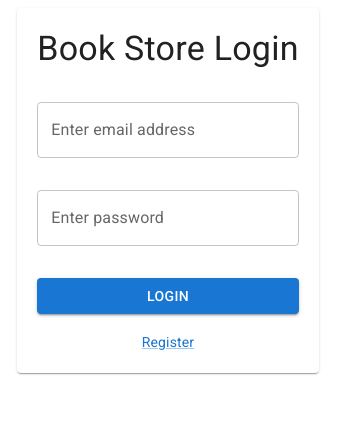
Test case: Login test › should show email and password invalid error message
Type "wrong" into the password field labelled "Enter password" at (168, 218), box [37,190,299,246]
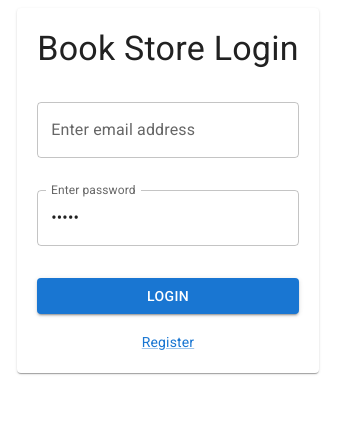
Type "wrong" into the field labelled "Enter email address" at (168, 130), box [37,102,299,158]
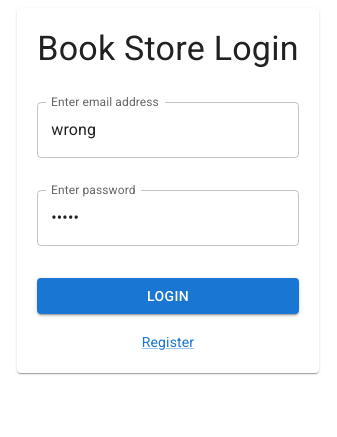
Submit the form from the button "Login", box [37,278,299,314]
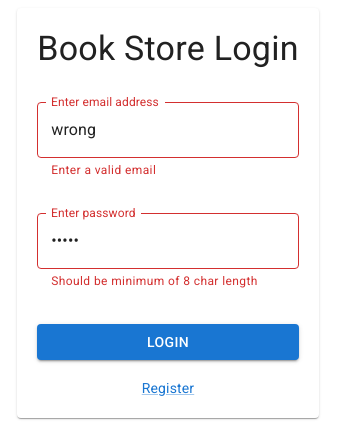
Check: the text "Enter a valid email" is shown, box [51,163,156,177]
Check: the text "Should be minimum of 8 char length" is shown, box [51,272,285,292]
